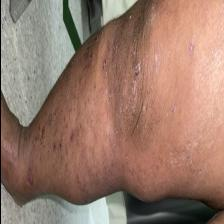DA: (62, 31, 104, 200), (35, 103, 61, 193)
